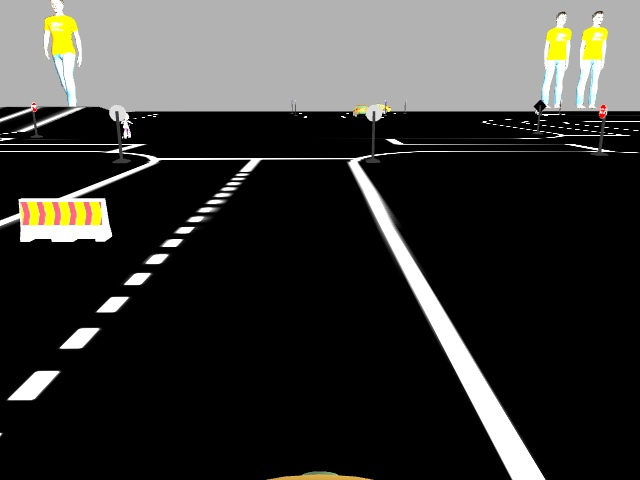ClosedRoadStand: (19, 200, 109, 238)
